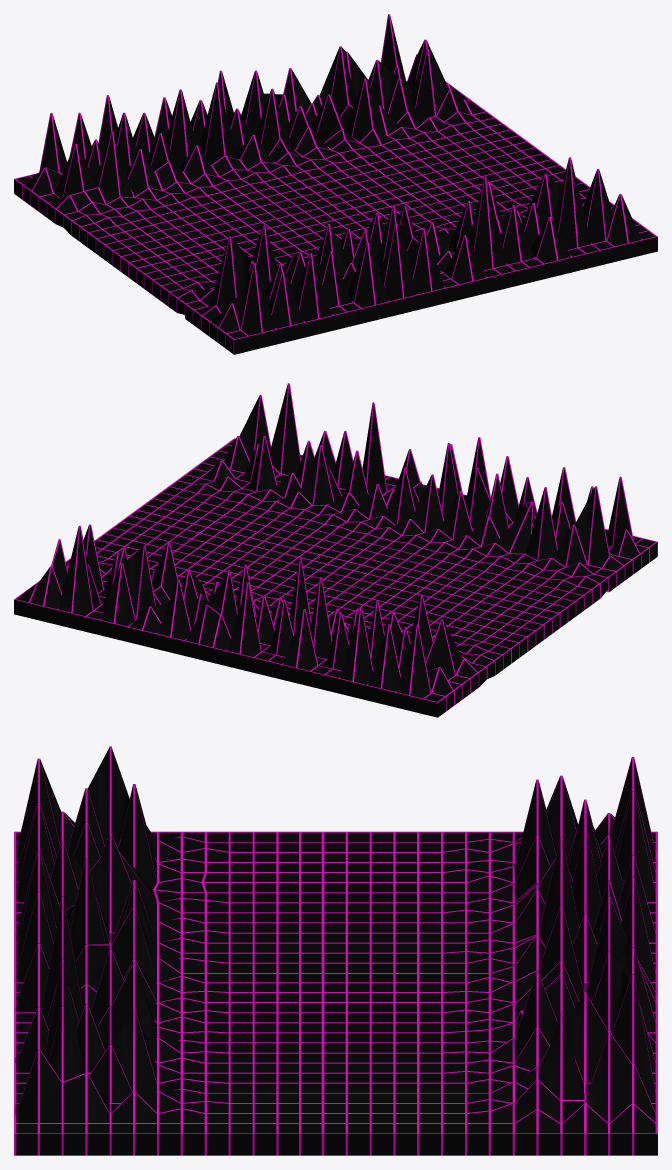
3 views of the same model, one above another, from view 1: azimuth 30°, elevation 25°; view 2: azimuth 150°, elevation 25°; view 3: azimuth 270°, elevation 25° (orthographic). The views are drawn at different scales.
Visible parts, largest first — view 1: pCube1; view 2: pCube1; view 3: pCube1.
Boxes of the visible parts, x1,y1,x2,y2 form: pCube1: [14, 14, 657, 354]; pCube1: [14, 383, 657, 717]; pCube1: [14, 746, 657, 1155].
Bounding box in the file's own units: 30 × 6.81 × 27.
